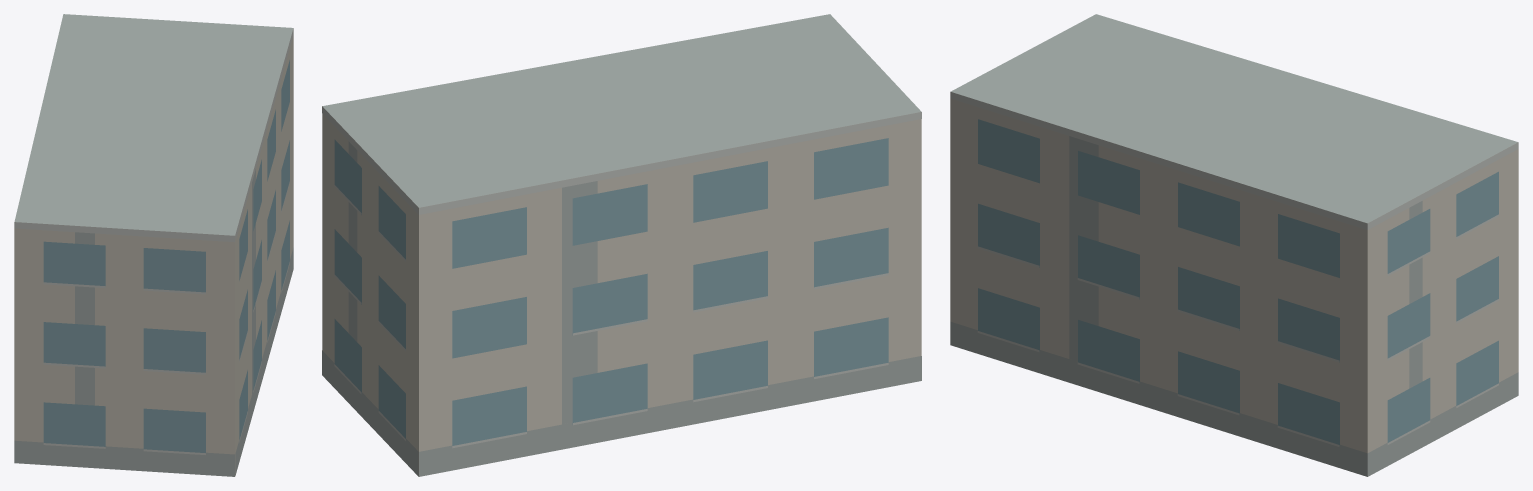
Rendered from survey-upis-32619662.glb.
The picture shows the model from 3 angles, left to right: view 1: azimuth 30°, elevation 25°; view 2: azimuth 150°, elevation 25°; view 3: azimuth 270°, elevation 25°; orthographic projection. The views are drawn at different scales.
Visible parts, largest first — view 1: survey-upis-32619662.tmp; view 2: survey-upis-32619662.tmp; view 3: survey-upis-32619662.tmp.
Part boxes in pixels (bbox=[...]): survey-upis-32619662.tmp: bbox=[14, 14, 293, 476]; survey-upis-32619662.tmp: bbox=[322, 14, 921, 476]; survey-upis-32619662.tmp: bbox=[950, 14, 1518, 476].
Size of the model in its own units: 16.22 by 9.15 by 18.59.
